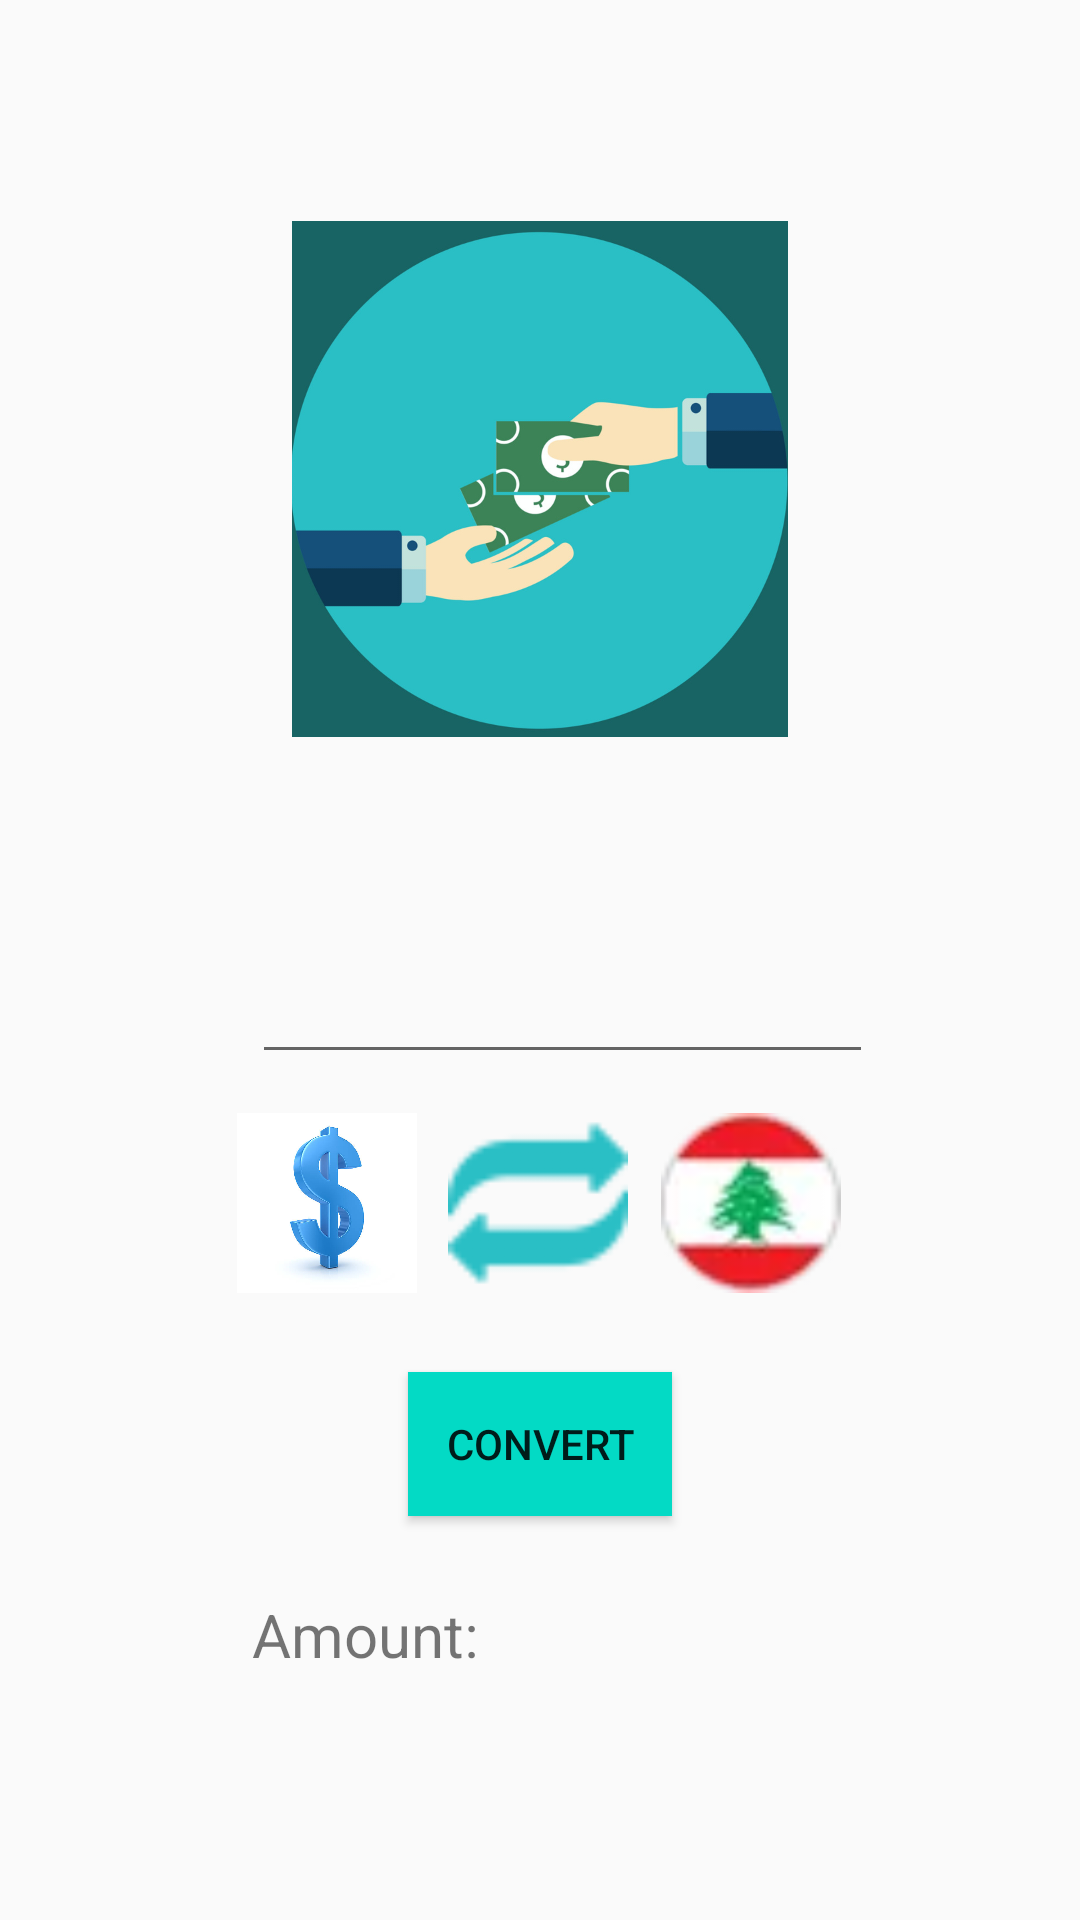

Where icons sit on this 1080x1920 app screen, as (x1, y1, x2, y2):
dollar: (290, 1125, 364, 1275)
